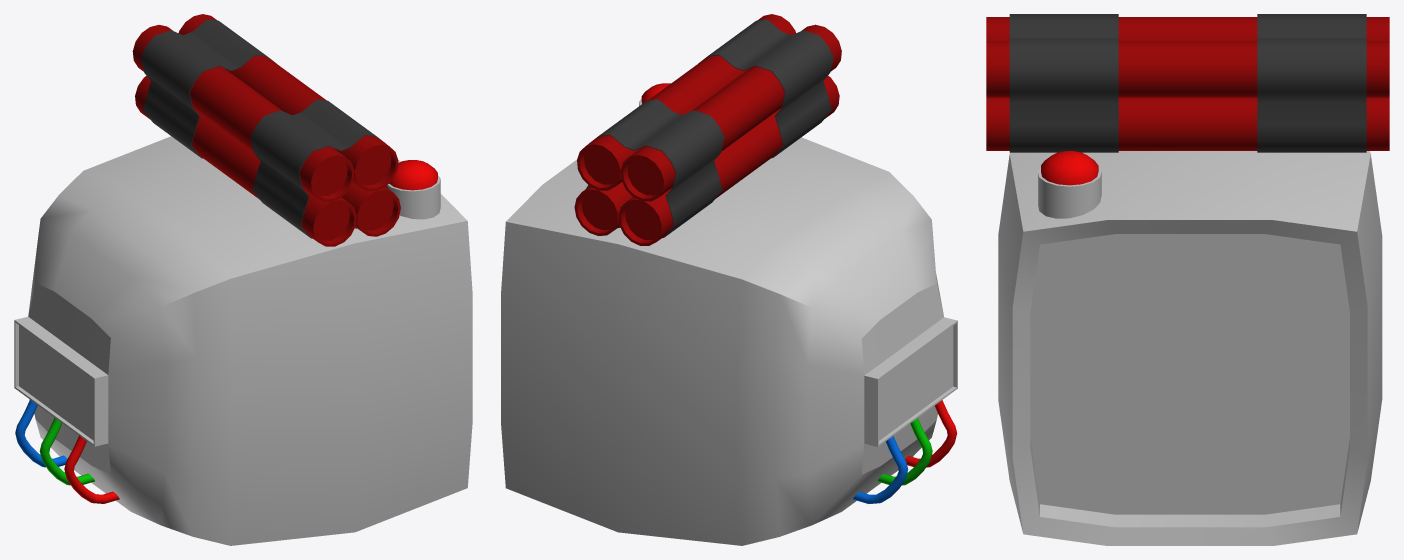
Rendered from RobotTextureTest_02.fbx.
The picture shows the model from 3 angles, left to right: view 1: azimuth 30°, elevation 25°; view 2: azimuth 150°, elevation 25°; view 3: azimuth 270°, elevation 25°; orthographic projection. The views are drawn at different scales.
Parts seen in each view (by area): view 1: TntRobotbase_GEO, Tnt_Band_GEO, Tnt_Band_GEO1, TntStick_GEO_01, TntStick_GEO_02, TntStick_GEO_04, TntStick_GEO_03, BombRobotLightBase_GEO, BombRobotLight_GEO, BombWire_01, BombWire_03, BombWire_02; view 2: TntRobotbase_GEO, Tnt_Band_GEO1, Tnt_Band_GEO, TntStick_GEO_01, TntStick_GEO_02, TntStick_GEO_04, TntStick_GEO_03, BombWire_02, BombWire_03, BombWire_01; view 3: TntRobotbase_GEO, Tnt_Band_GEO1, Tnt_Band_GEO, TntStick_GEO_04, TntStick_GEO_03, TntStick_GEO_01, BombRobotLightBase_GEO, BombRobotLight_GEO.
Part boxes in pixels (x1=…): TntRobotbase_GEO: x1=14, y1=136, x2=472, y2=545; Tnt_Band_GEO: x1=250, y1=99, x2=389, y2=238; Tnt_Band_GEO1: x1=141, y1=19, x2=276, y2=158; TntStick_GEO_01: x1=132, y1=25, x2=354, y2=201; TntStick_GEO_02: x1=135, y1=76, x2=356, y2=246; TntStick_GEO_04: x1=178, y1=14, x2=398, y2=191; TntStick_GEO_03: x1=342, y1=182, x2=400, y2=236; BombRobotLightBase_GEO: x1=387, y1=175, x2=440, y2=219; BombRobotLight_GEO: x1=389, y1=160, x2=437, y2=190; BombWire_01: x1=64, y1=435, x2=119, y2=503; BombWire_03: x1=39, y1=417, x2=94, y2=485; BombWire_02: x1=15, y1=399, x2=67, y2=467; TntRobotbase_GEO: x1=501, y1=137, x2=957, y2=545; Tnt_Band_GEO1: x1=586, y1=99, x2=724, y2=238; Tnt_Band_GEO: x1=698, y1=19, x2=833, y2=158; TntStick_GEO_01: x1=620, y1=24, x2=841, y2=201; TntStick_GEO_02: x1=618, y1=75, x2=839, y2=245; TntStick_GEO_04: x1=577, y1=14, x2=795, y2=190; TntStick_GEO_03: x1=574, y1=182, x2=632, y2=235; BombWire_02: x1=853, y1=436, x2=908, y2=503; BombWire_03: x1=877, y1=418, x2=932, y2=485; BombWire_01: x1=905, y1=400, x2=957, y2=467; TntRobotbase_GEO: x1=998, y1=151, x2=1382, y2=545; Tnt_Band_GEO1: x1=1257, y1=14, x2=1366, y2=152; Tnt_Band_GEO: x1=1009, y1=14, x2=1118, y2=152; TntStick_GEO_04: x1=986, y1=41, x2=1389, y2=97; TntStick_GEO_03: x1=986, y1=98, x2=1389, y2=150; TntStick_GEO_01: x1=986, y1=17, x2=1389, y2=40; BombRobotLightBase_GEO: x1=1038, y1=168, x2=1101, y2=218; BombRobotLight_GEO: x1=1041, y1=151, x2=1098, y2=185.
Bounding box in the file's own units: 41.56 × 45.62 × 36.27.
